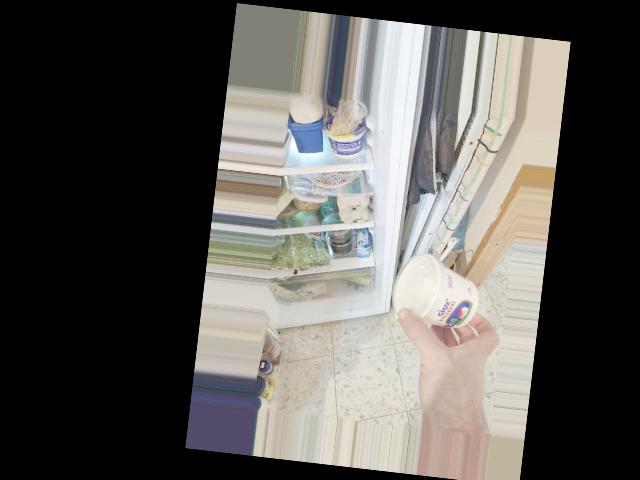cotage: (404, 246, 483, 338)
